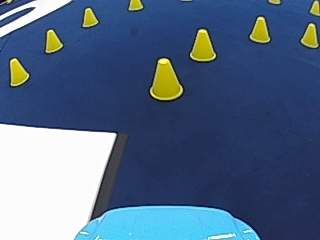cone: (148, 56, 183, 100), (188, 27, 216, 61), (248, 15, 270, 42), (8, 57, 29, 85), (300, 22, 318, 47), (44, 28, 62, 52), (81, 6, 98, 27), (309, 0, 319, 15), (127, 0, 142, 10)
